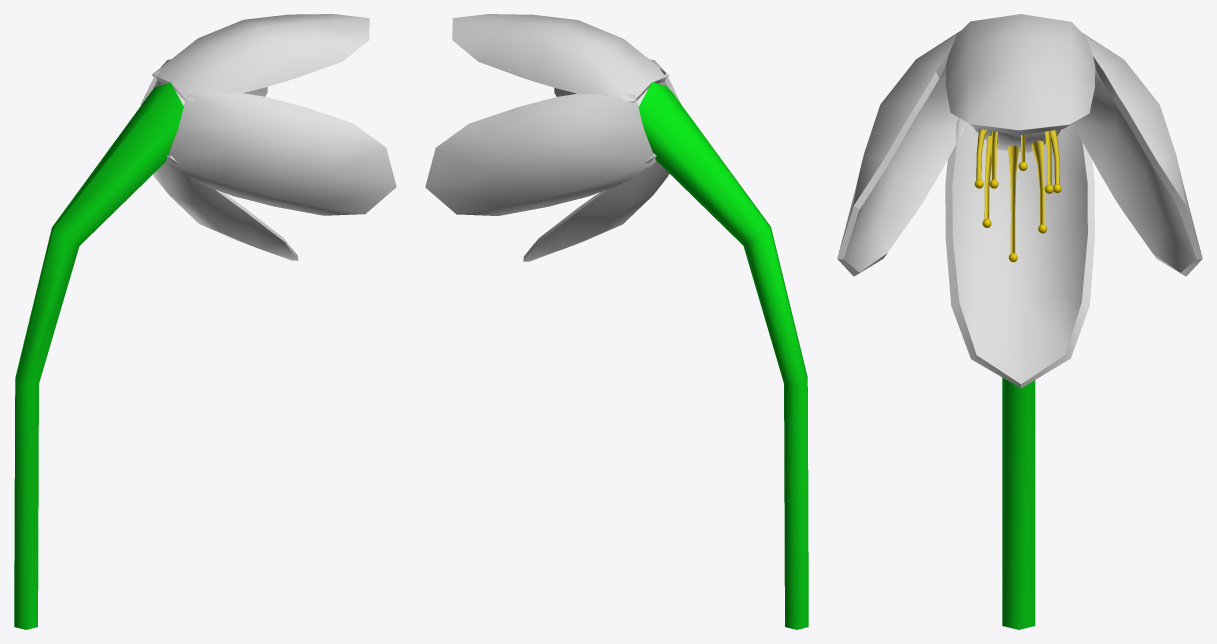
Rendered from Krokus-split-Bend.FBX.
The picture shows the model from 3 angles, left to right: view 1: azimuth 30°, elevation 25°; view 2: azimuth 150°, elevation 25°; view 3: azimuth 270°, elevation 25°; orthographic projection. The views are drawn at different scales.
Visible parts, largest first — view 1: Plane002, Cylinder002; view 2: Plane002, Cylinder002; view 3: Plane002, Cylinder002, Cylinder016, Sphere019, Sphere012.
Part boxes in pixels (<box>): Plane002: <box>141,14,396,260</box>; Cylinder002: <box>14,82,183,629</box>; Plane002: <box>425,14,680,261</box>; Cylinder002: <box>638,82,808,629</box>; Plane002: <box>837,14,1202,388</box>; Cylinder002: <box>1002,377,1035,629</box>; Cylinder016: <box>976,129,1059,253</box>; Sphere019: <box>973,127,1061,152</box>; Sphere012: <box>974,161,1061,262</box>.
Bounding box in the file's own units: 156 × 226 × 99.97.
